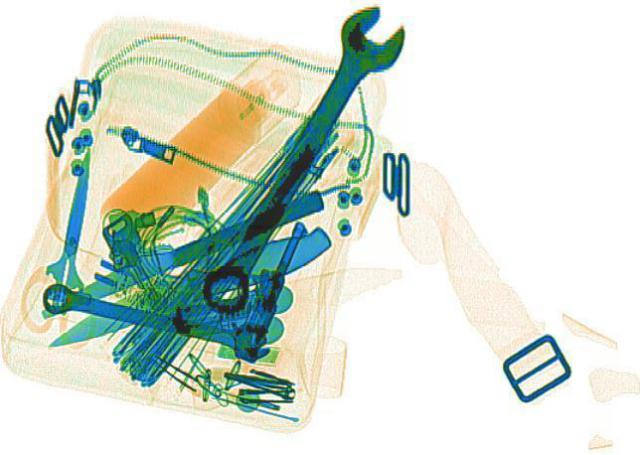Gun: (163, 207, 309, 358)
Knife: (31, 221, 342, 358), (29, 187, 328, 320), (38, 145, 108, 294)
Wrench: (182, 0, 420, 315), (32, 274, 280, 362)
